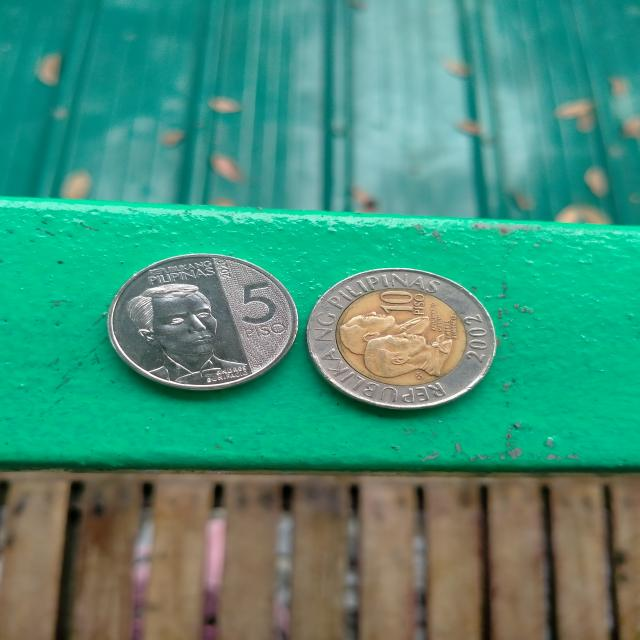10_Old_Front: (314, 273, 490, 409)
5_New_Front: (112, 254, 289, 388)
